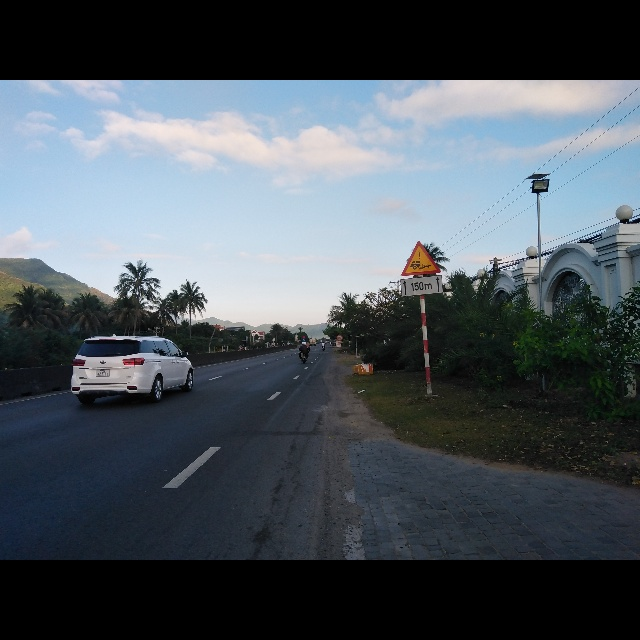Đoạn đường hay xảy ra tai nạn: (400, 238, 444, 277)
